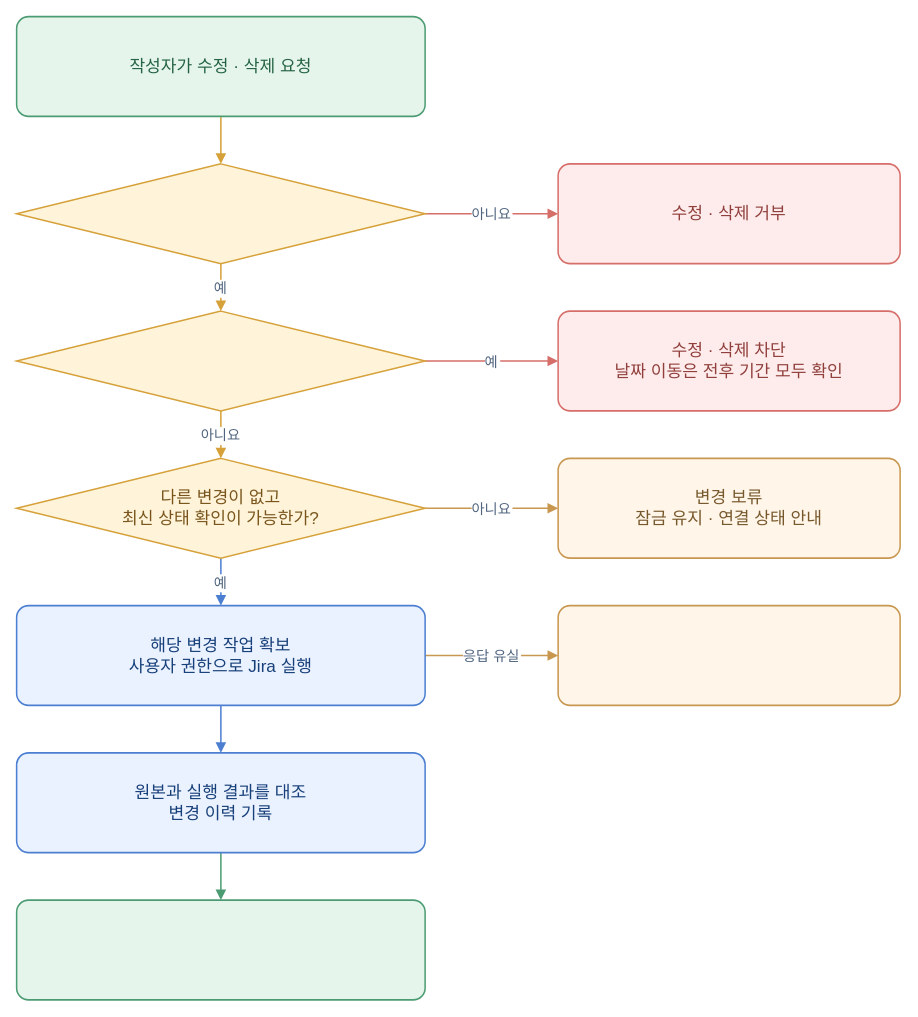
The diagram is 918 pixels wide and 1017 high, and some of its shapes have lost their labels. The shapes that lost their labels are listed below. From the top down, each one's centre as x and y in pixels, then its label:
pixel 220 213: 작성자 · 이슈 접근 작업 권한이 유효한가?
pixel 220 360: 승인 완료 또는 마감 기간에 해당하는가?
pixel 728 655: 결과 불명확 중복 실행 없이 원본 확인
pixel 220 949: 처리 결과 표시 필요한 승인 흐름으로 연결
